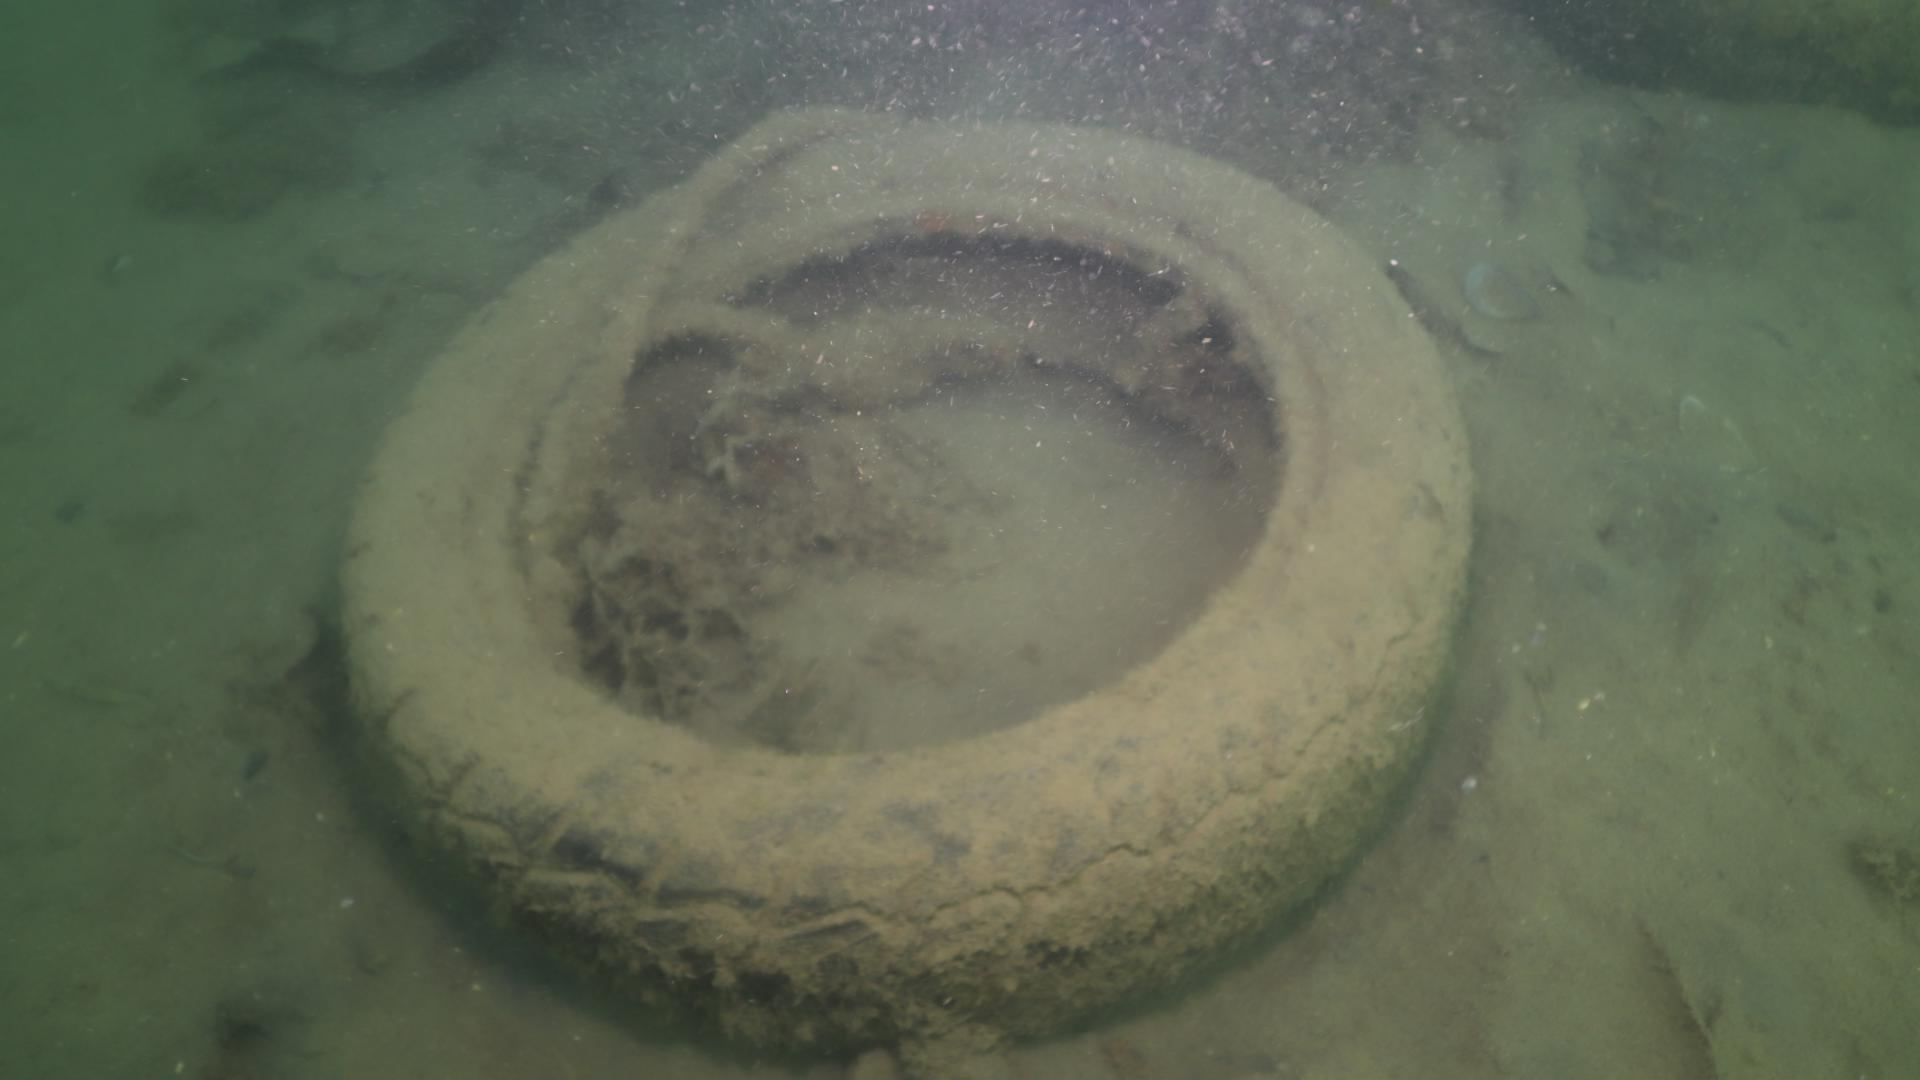bundle of ropes: (554, 105, 876, 517)
tire: (330, 113, 1473, 1058)
